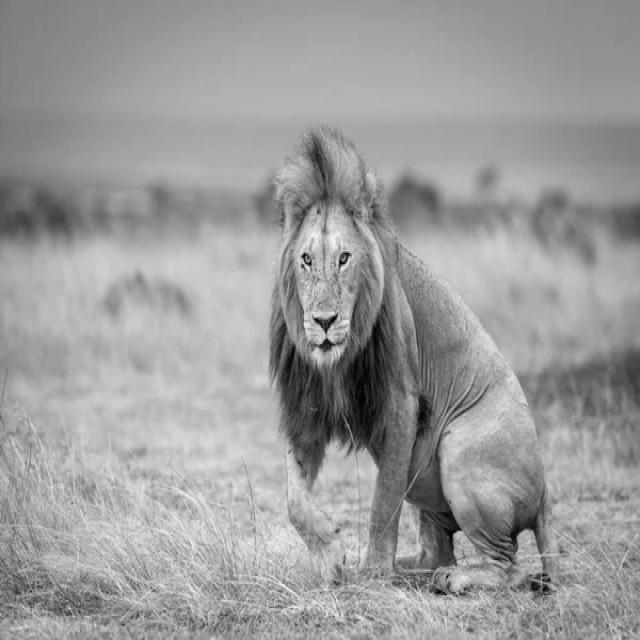Animal: (270, 135, 560, 594)
